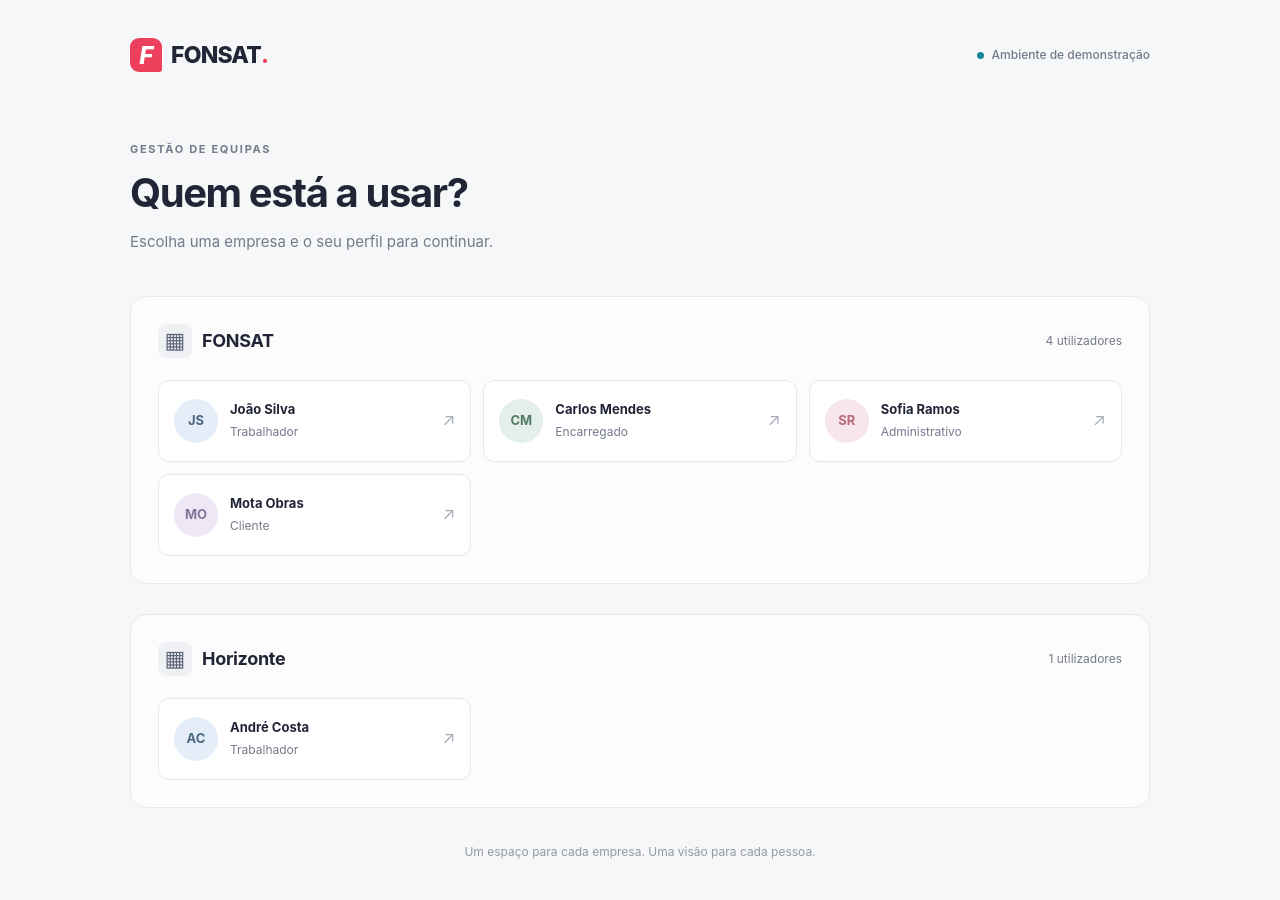
seleciona Sofia Ramos e abre o ambiente Visão geral
The image size is (1280, 900).
Click the button "SR Sofia Ramos Administrativo ↗" at (847, 420), box [809,380,1122,462]
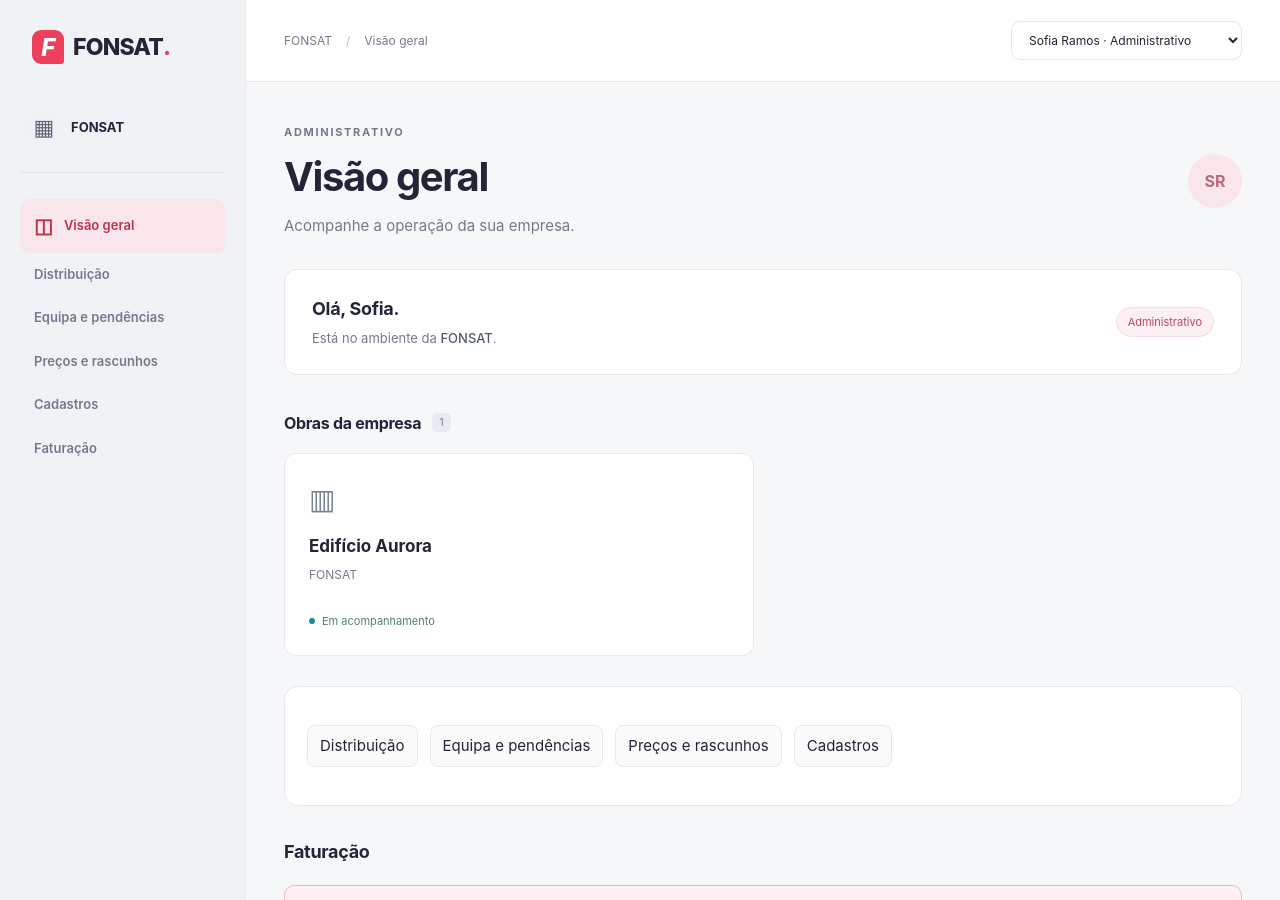
Check: the heading "Visão geral" is shown, box [284,152,488,200]
